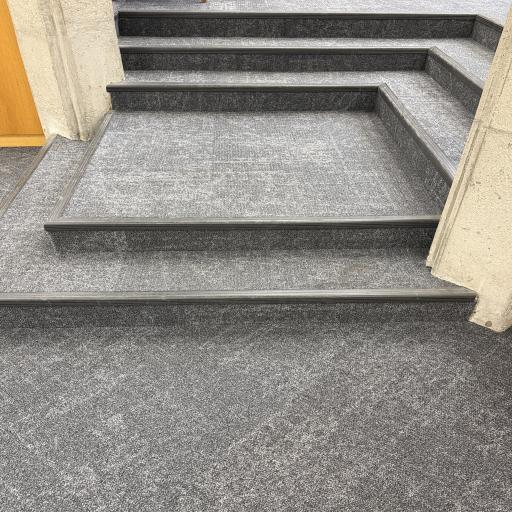Stairs: (0, 11, 501, 326)
